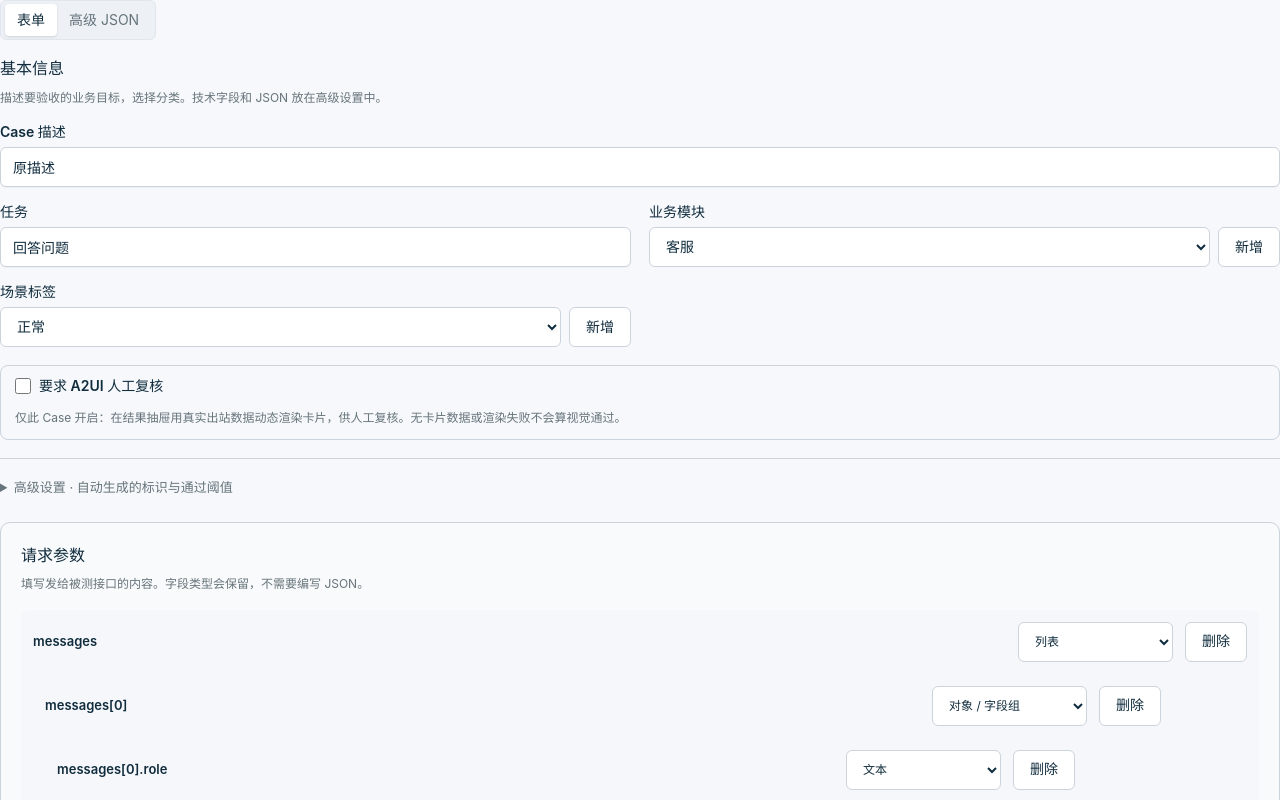
Test case: Case 双编辑器组件 › 完整 JSON 保存收到服务端字段错误时在当前编辑器显示并聚焦
Click the tab "高级 JSON" at [104, 20], box [57,4,151,36]
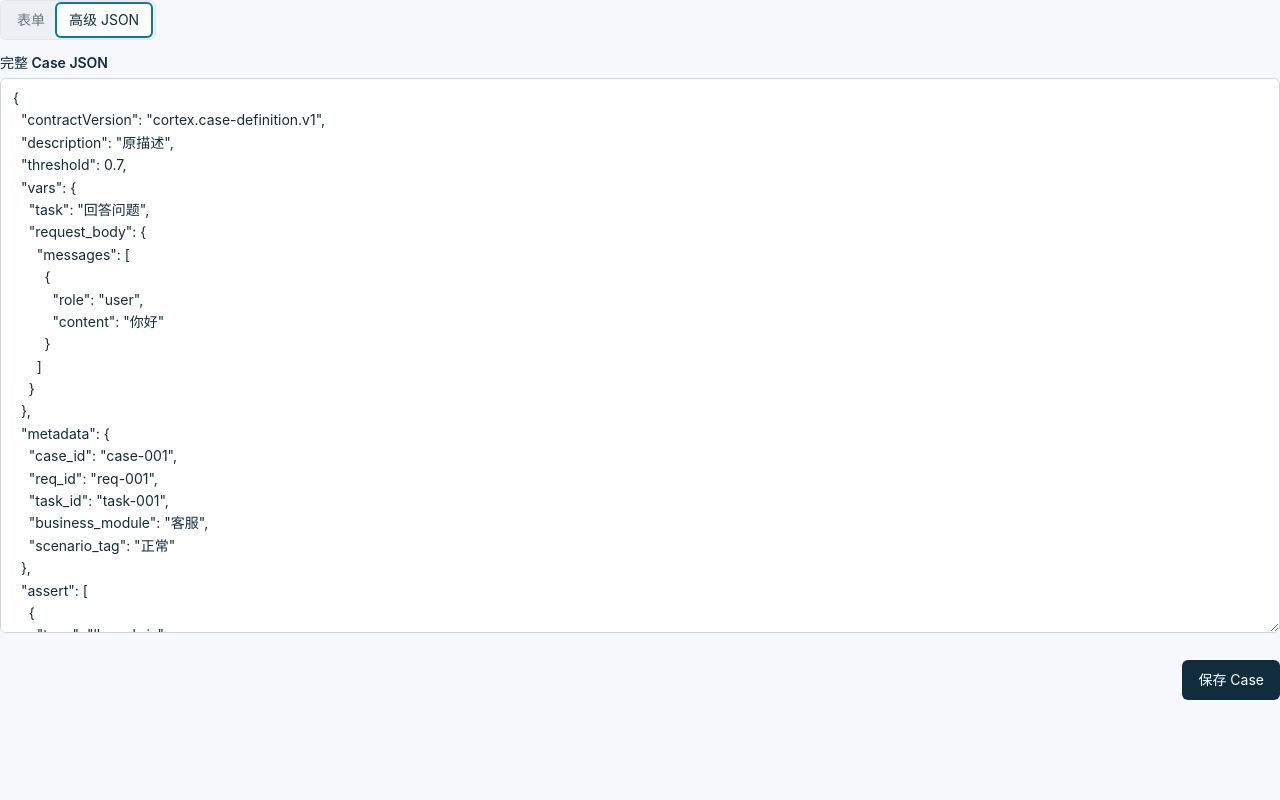
Click the button "保存 Case" at [1231, 680], box [1182,660,1279,700]
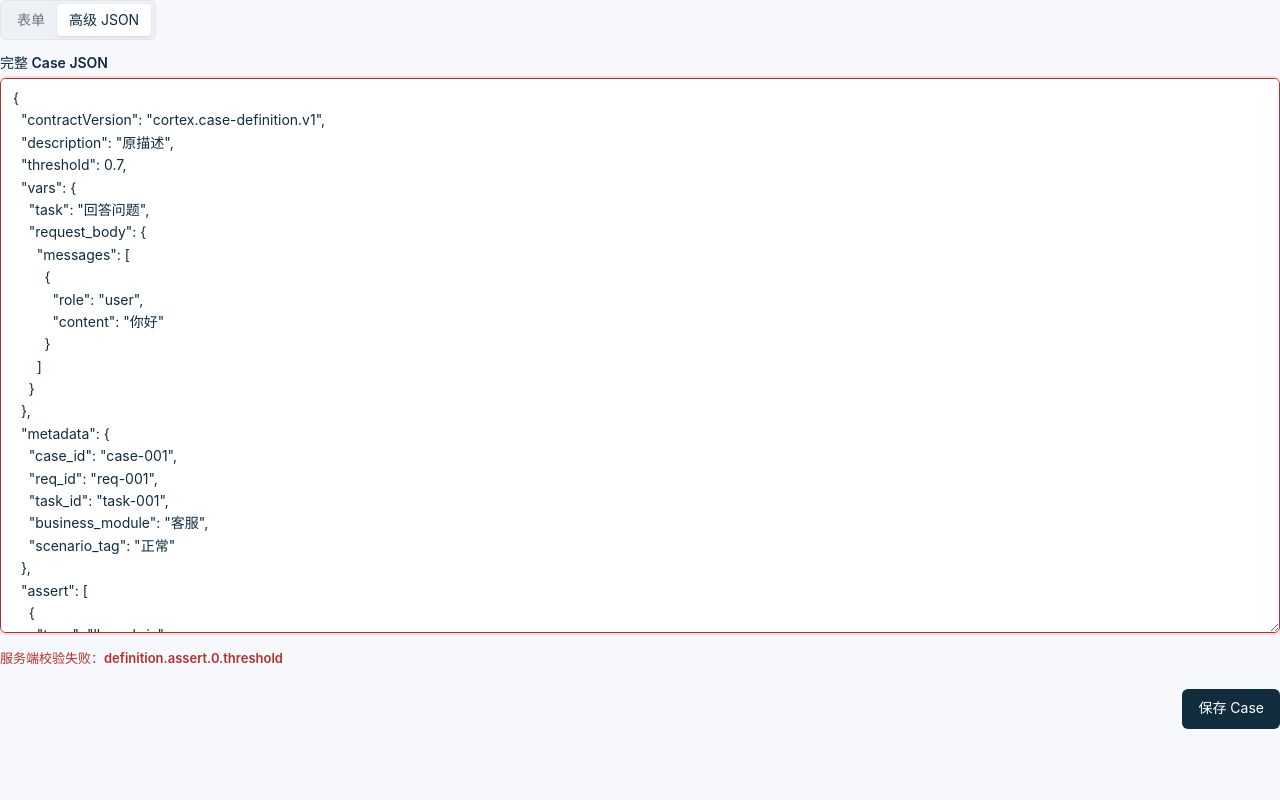
expect the text "服务端校验失败：definition.assert.0.threshold" is shown: met, box [0,650,283,666]
